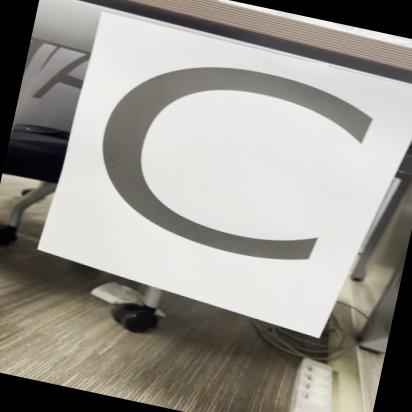seat: (40, 9, 412, 331)
